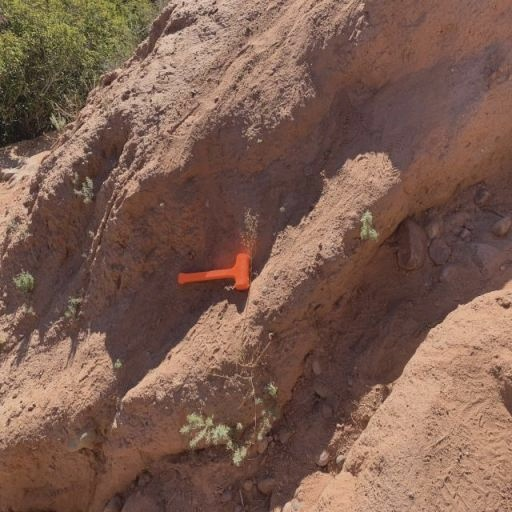mallet: (176, 254, 252, 290)
